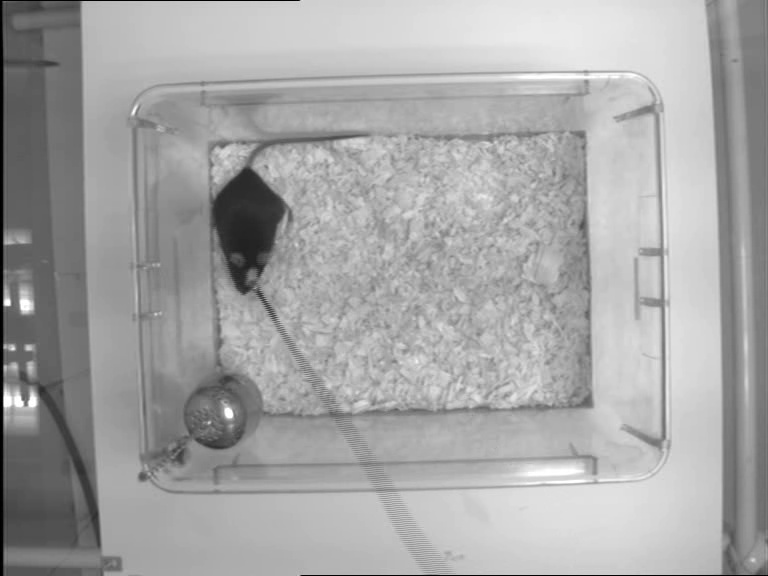mice: (214, 129, 371, 300)
